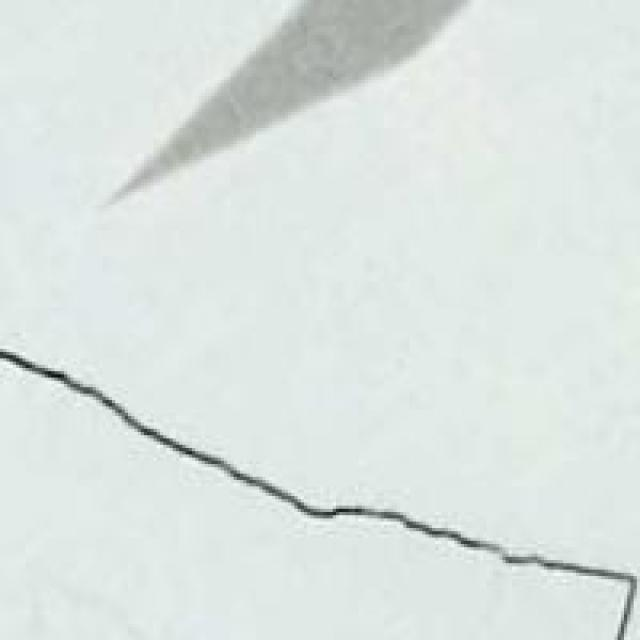Crack: (0, 278, 637, 637)
